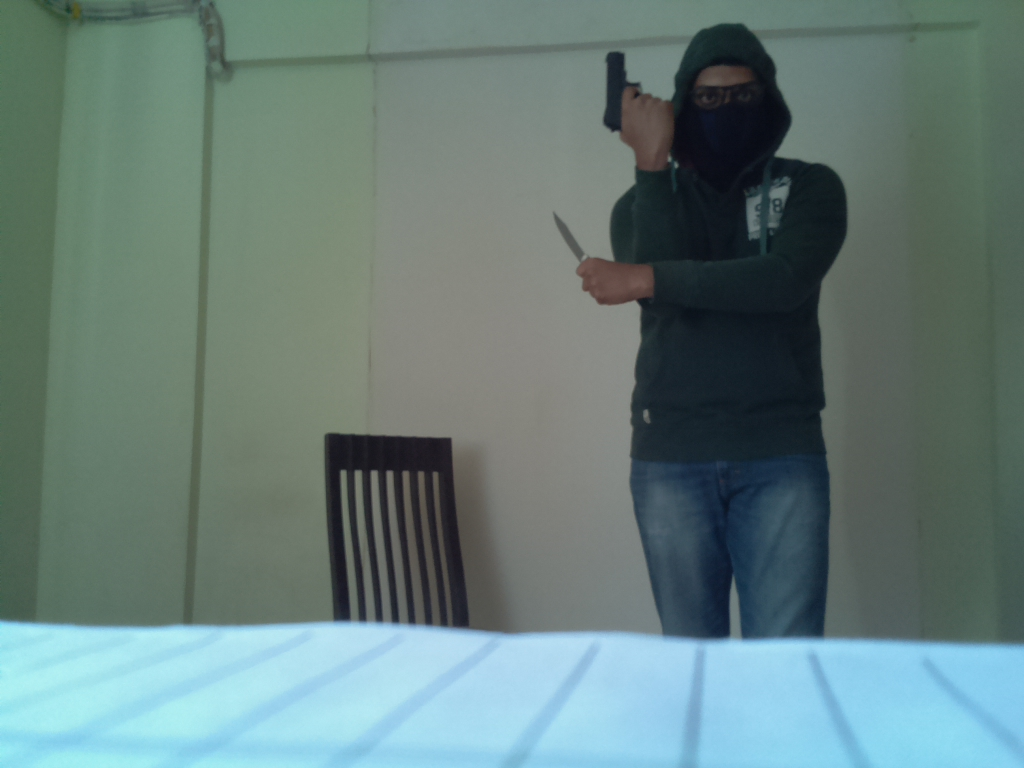gun: (596, 45, 649, 138)
knife: (544, 206, 596, 273)
